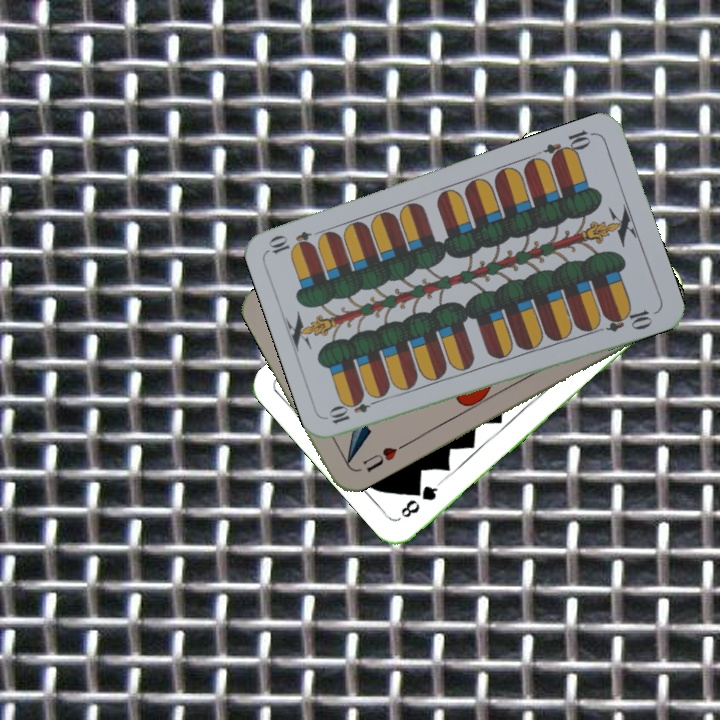E10: (540, 126, 598, 165), (325, 393, 383, 427)
G8: (396, 478, 443, 521)
HU: (358, 440, 408, 475)
